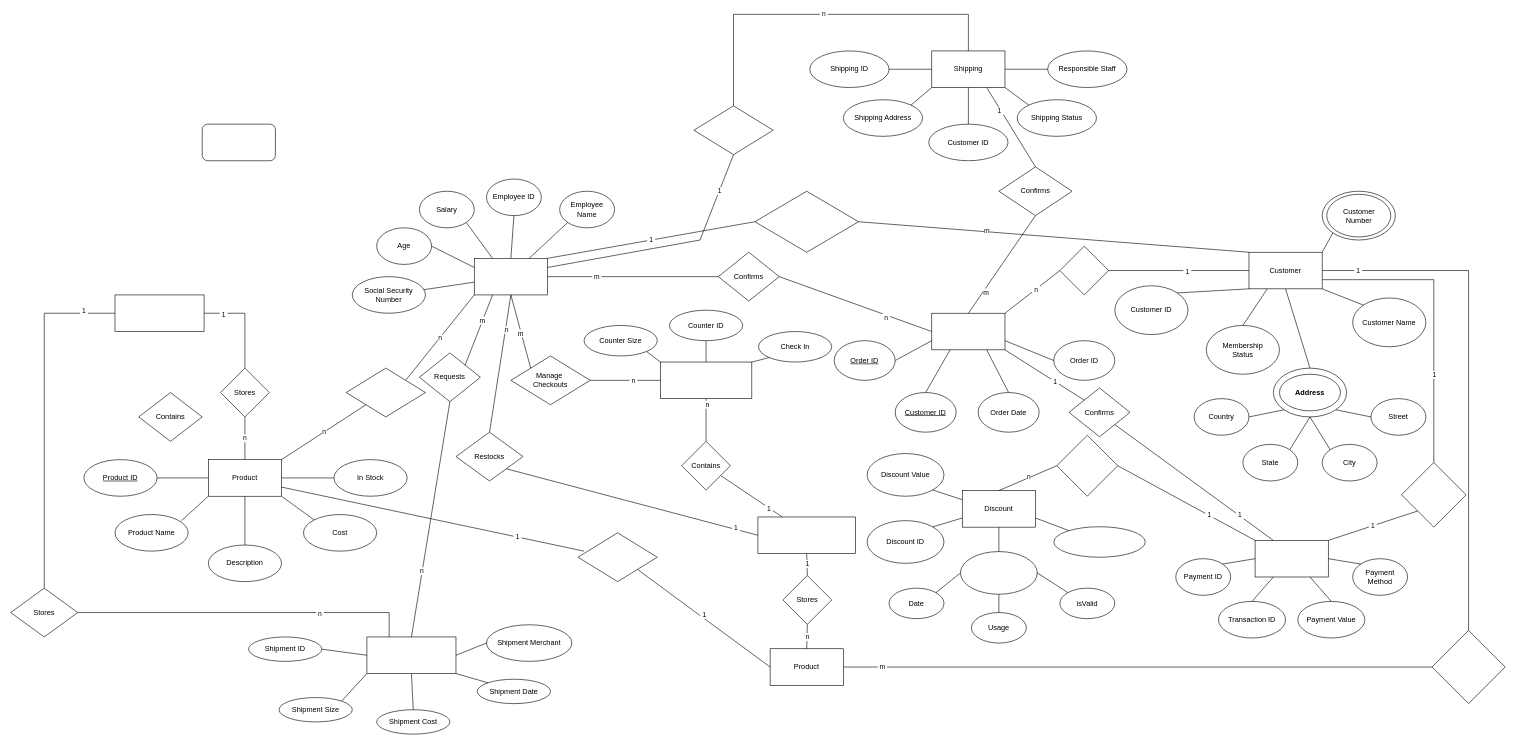
Some shapes in this 1516 by 745 pixel diagram are drawn without their labels. Here are the shapes that lost their labels. From the top down, the box of each, then its label:
(202, 124, 275, 161): SHOPNEST HYPERMARKET
(693, 105, 773, 155): Completes
(754, 191, 859, 252): Helps Customers
(474, 258, 547, 295): Staff
(1059, 246, 1109, 295): Places
(114, 294, 204, 332): Storage
(931, 313, 1005, 350): Order
(346, 368, 425, 417): Take Products
(660, 361, 752, 399): Checkout Counter
(1056, 435, 1118, 496): Included
(1401, 462, 1466, 527): Makes
(757, 516, 856, 554): Customer Area
(1053, 526, 1145, 557): Discount Type Percentage or Fixed
(577, 532, 657, 582): IS
(960, 551, 1037, 594): Validity
(1254, 540, 1328, 577): Payment
(366, 636, 456, 674): Shipment
(1431, 630, 1505, 704): Chooses
